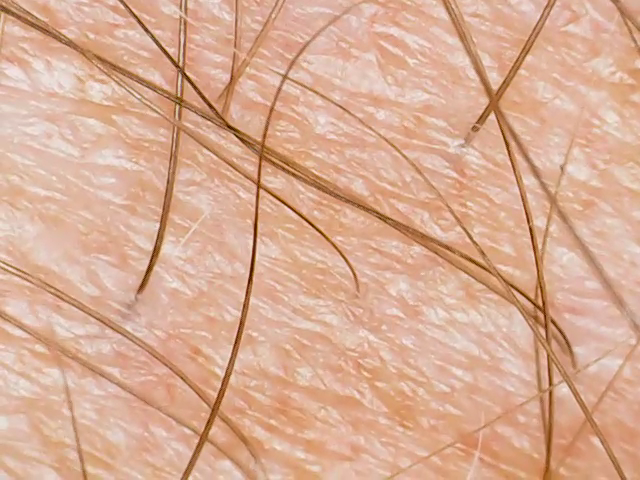folicle: (341, 274, 374, 308), (123, 274, 154, 308), (458, 120, 489, 148), (210, 84, 233, 108), (212, 104, 231, 126)
